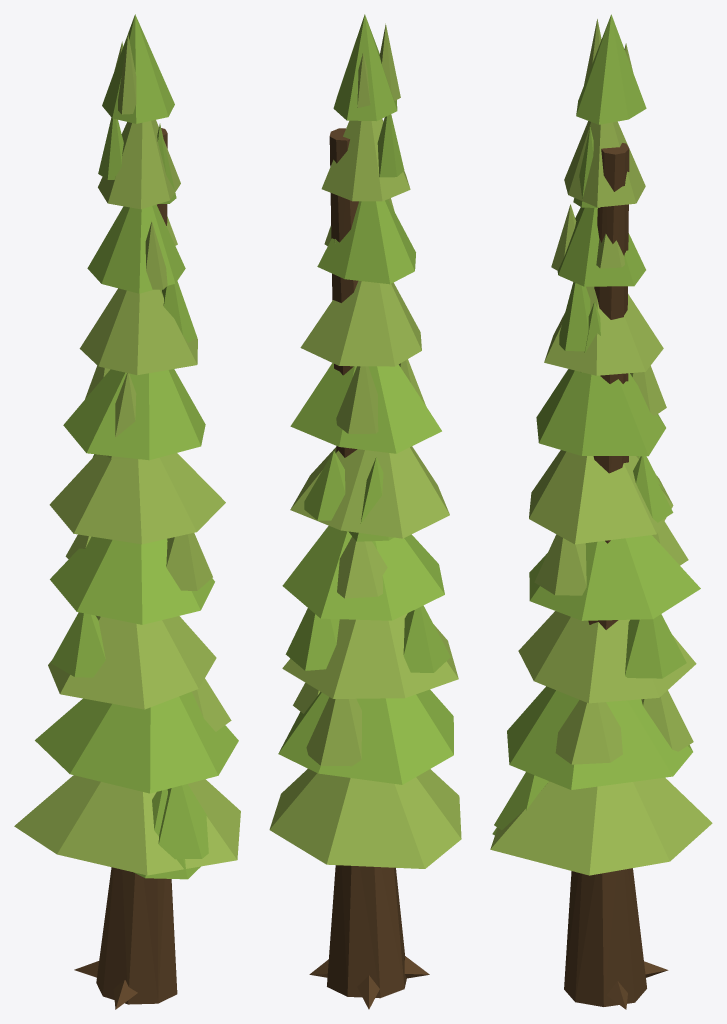
Rendered from HS_LP_Tree_Larch_01.fbx.
3 renders of one model, left to right at view 1: azimuth 30°, elevation 25°; view 2: azimuth 150°, elevation 25°; view 3: azimuth 270°, elevation 25°, orthographic.
Parts seen in each view (by area): view 1: HS_LP_Tree_Larch_01; view 2: HS_LP_Tree_Larch_01; view 3: HS_LP_Tree_Larch_01.
Boxes of the visible parts, left/top/right/bottom form: HS_LP_Tree_Larch_01: left=14, top=14, right=240, bottom=1009; HS_LP_Tree_Larch_01: left=269, top=14, right=461, bottom=1009; HS_LP_Tree_Larch_01: left=490, top=14, right=712, bottom=1009.
Size of the model in its own units: 127 by 638 by 132.
